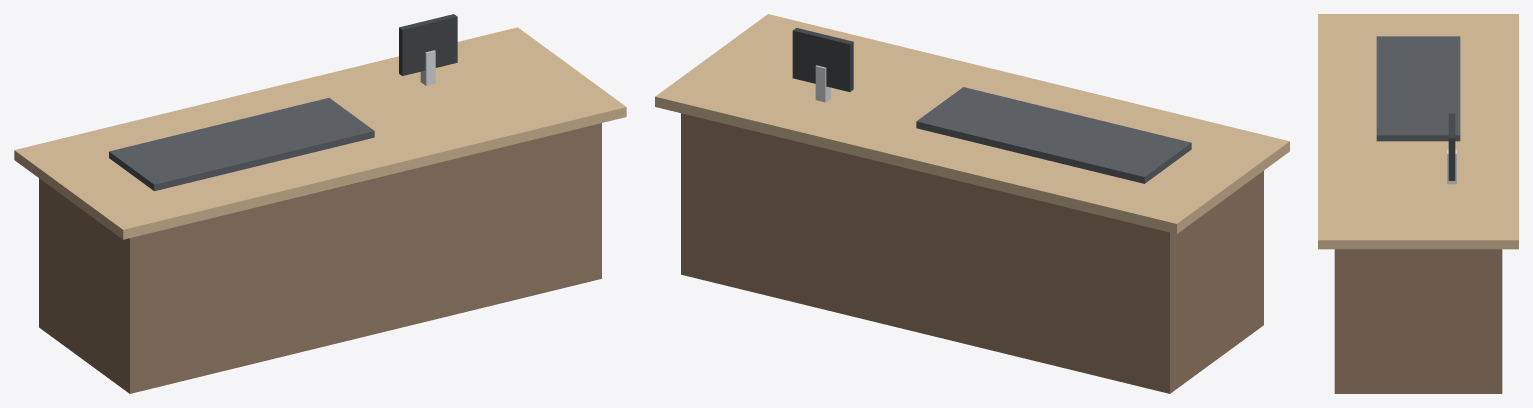
The model's file is checkout_counter.glb.
3 views of the same model, side by side, from view 1: azimuth 30°, elevation 25°; view 2: azimuth 150°, elevation 25°; view 3: azimuth 270°, elevation 25° (orthographic). The views are drawn at different scales.
Parts seen in each view (by area): view 1: walnut, oak, c1e2125_0.75_0, c111315_0.75_0; view 2: walnut, oak, c1e2125_0.75_0, c111315_0.75_0; view 3: oak, walnut, c1e2125_0.75_0, c111315_0.75_0.
Part boxes in pixels (<box>): walnut: <box>39,123,601,393</box>; oak: <box>14,27,626,239</box>; c1e2125_0.75_0: <box>109,98,374,191</box>; c111315_0.75_0: <box>399,14,457,75</box>; walnut: <box>681,113,1263,393</box>; oak: <box>655,14,1289,233</box>; c1e2125_0.75_0: <box>916,87,1191,183</box>; c111315_0.75_0: <box>792,28,853,91</box>; oak: <box>1318,14,1518,249</box>; walnut: <box>1334,249,1502,393</box>; c1e2125_0.75_0: <box>1376,36,1460,141</box>; c111315_0.75_0: <box>1448,113,1455,180</box>.
Size of the model in its own units: 3.2 by 1.44 by 1.2.
